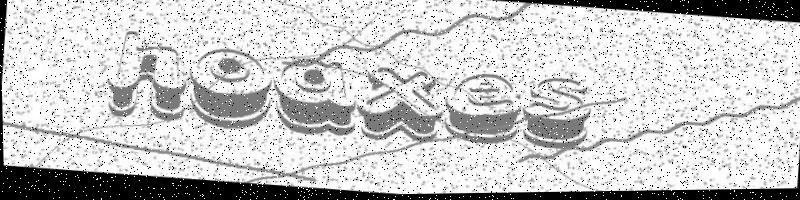a: (271, 54, 360, 141)
e: (441, 69, 525, 151)
h: (102, 26, 193, 124)
o: (184, 44, 279, 131)
s: (518, 72, 597, 155)
x: (352, 63, 447, 148)
